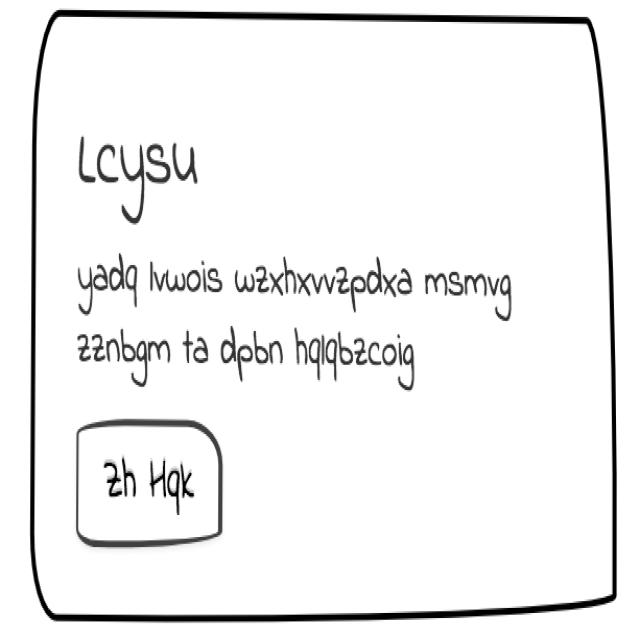Button: (69, 415, 231, 557)
Heading 6: (68, 121, 210, 223)
Paragraph: (69, 259, 528, 398)
